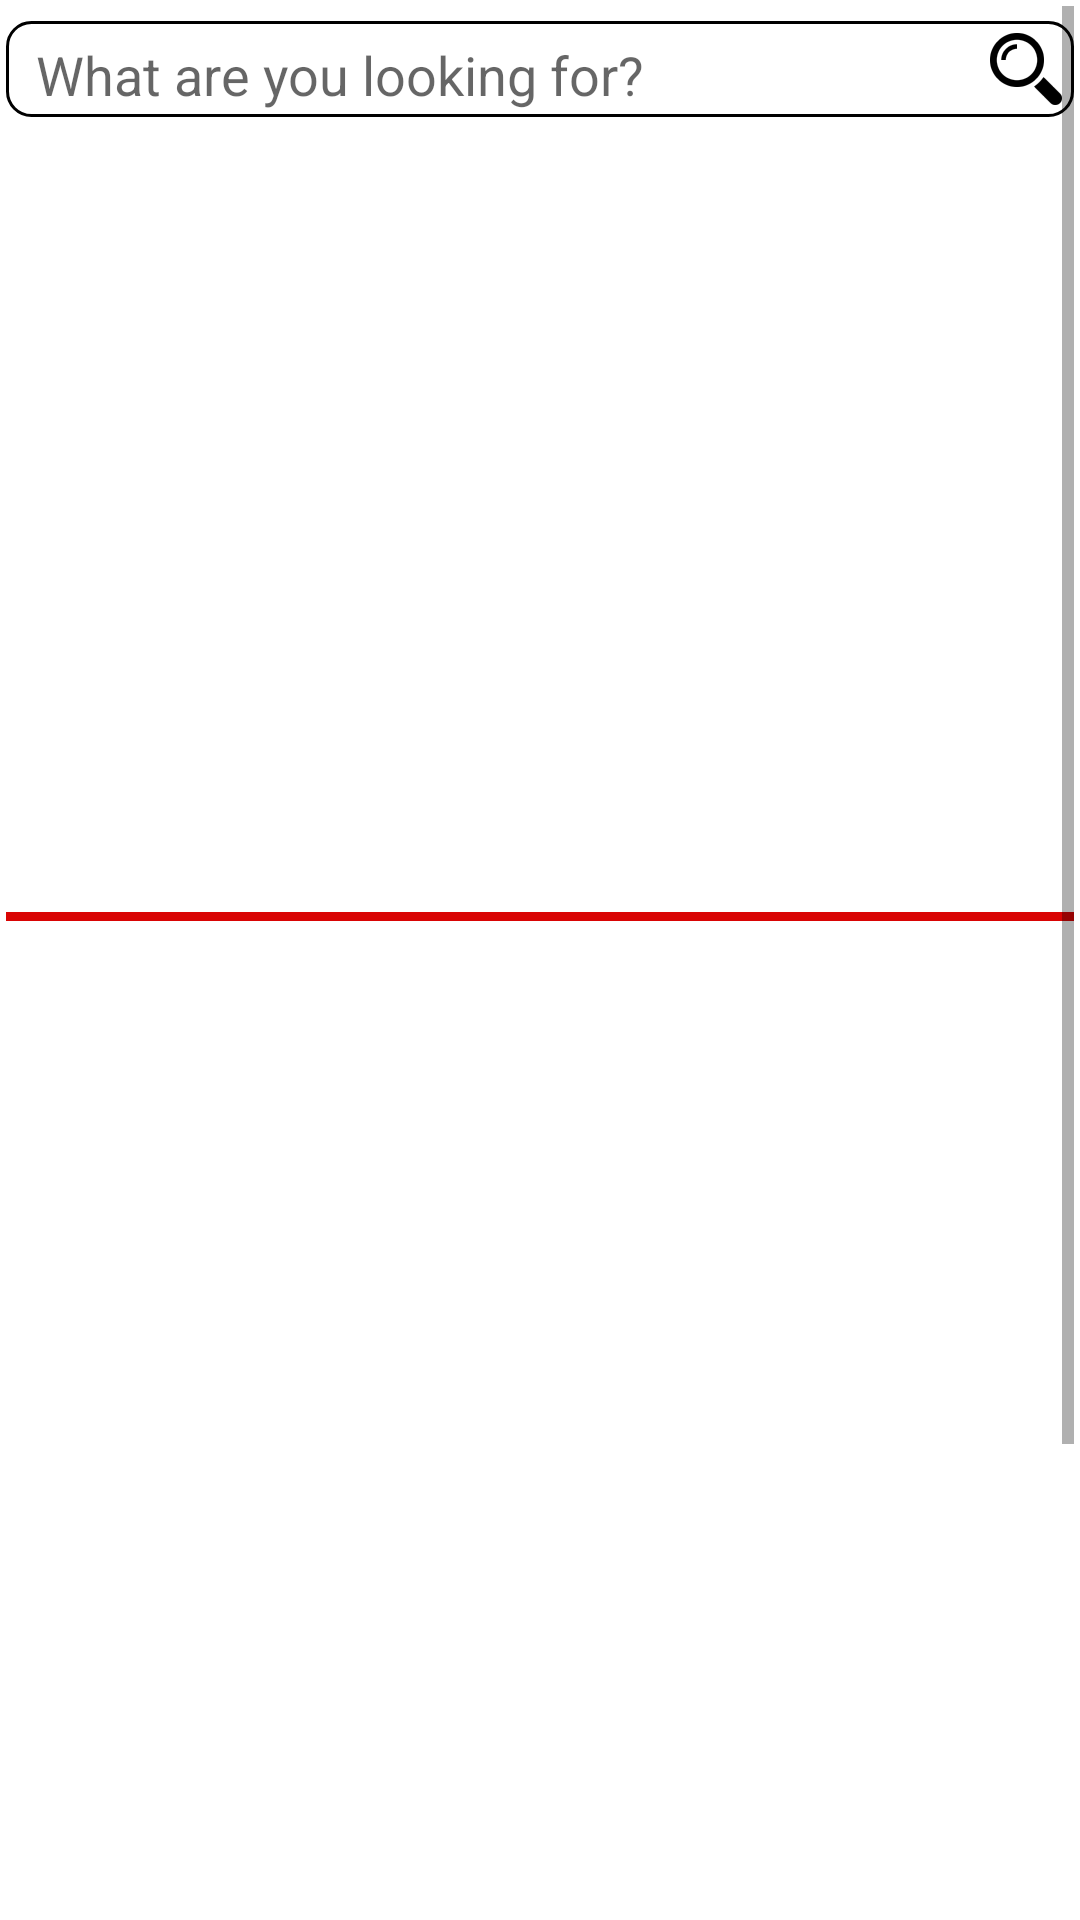

Icon click points for this 1080 × 1920 phone screenshot, format (x,y):
search: (1026,69)
